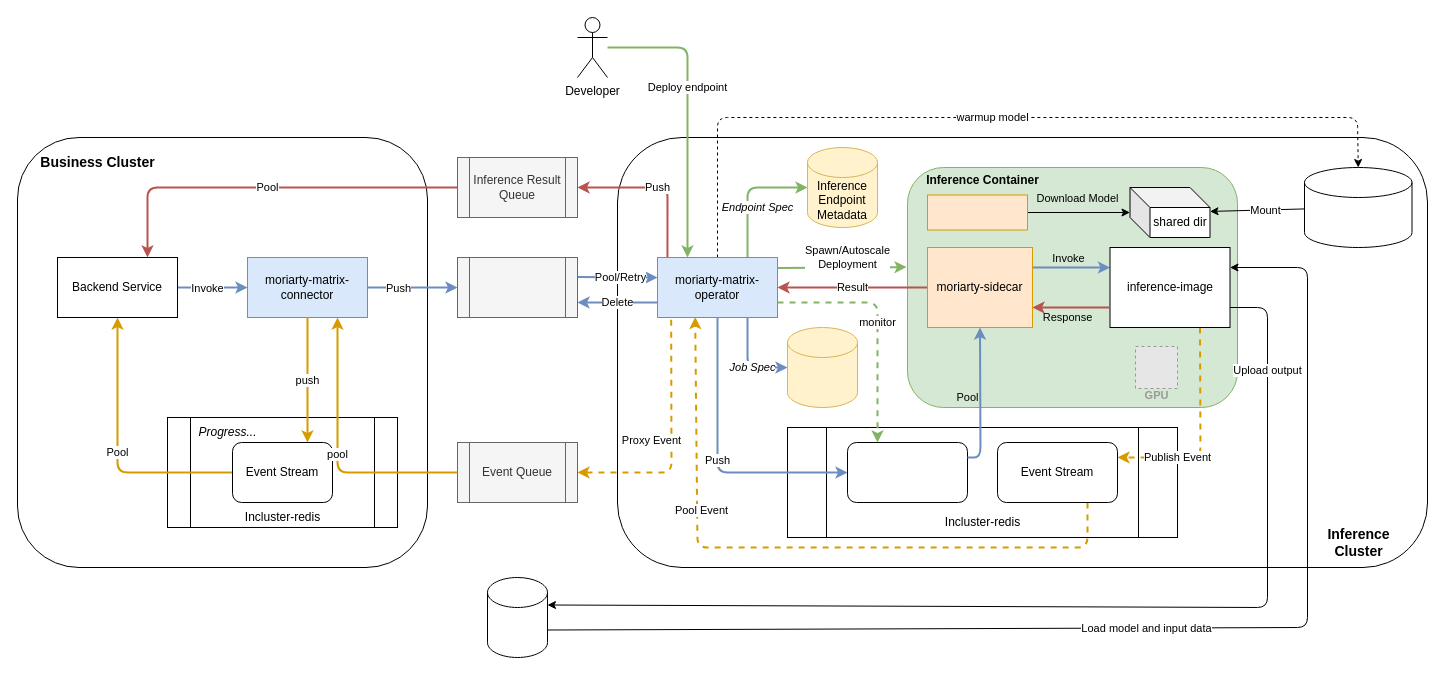
This 1445x675 diagram has some shape labels left out. Grey dashed boxes stand in for pictures. Each missing label, with the centre of its shape:
Inference Function Queue: the point at 907,472
Inference Job Metadata: the point at 822,367
Inference Job Queue: the point at 517,287
moriarty-init: the point at 977,212
S3 Storage: the point at 517,617
Shared High Preformance Storage: the point at 1358,207
